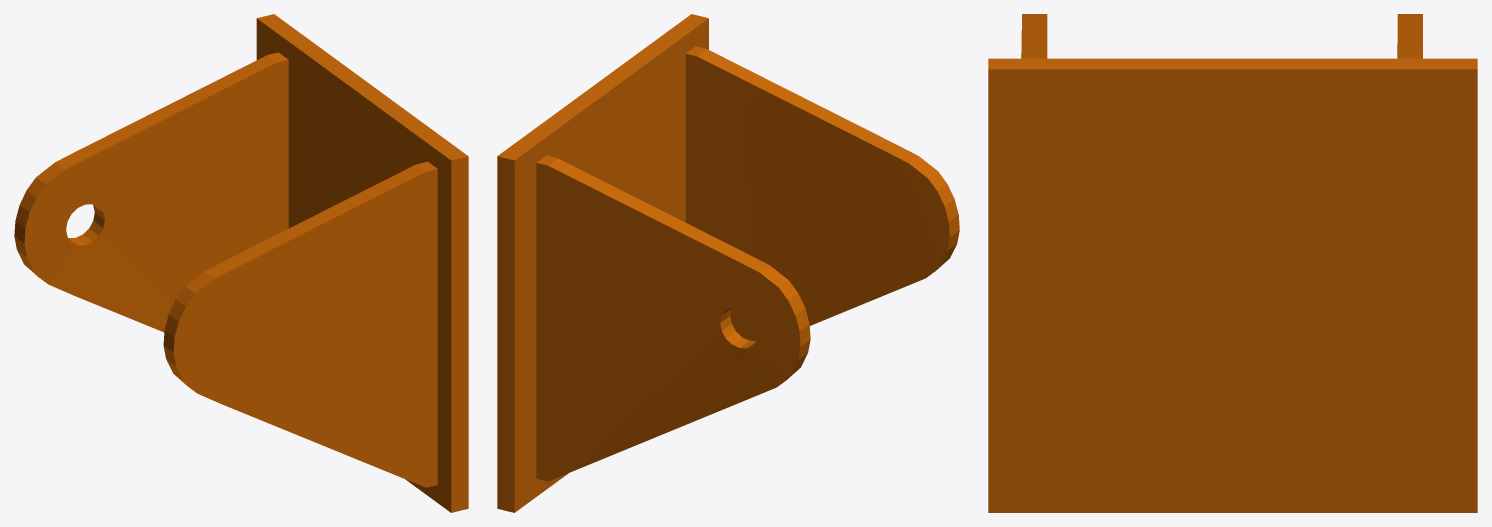
File: upper.obj
3 views of the same model, side by side, from view 1: azimuth 30°, elevation 25°; view 2: azimuth 150°, elevation 25°; view 3: azimuth 270°, elevation 25° (orthographic). The views are drawn at different scales.
Parts seen in each view (by area): view 1: Plane.001; view 2: Plane.001; view 3: Plane.001.
Part boxes in pixels (<box>): Plane.001: <box>14,14,468,512</box>; Plane.001: <box>497,14,959,512</box>; Plane.001: <box>988,14,1477,512</box>.
Size of the model in its own units: 0.0485 by 0.058 by 0.058.
